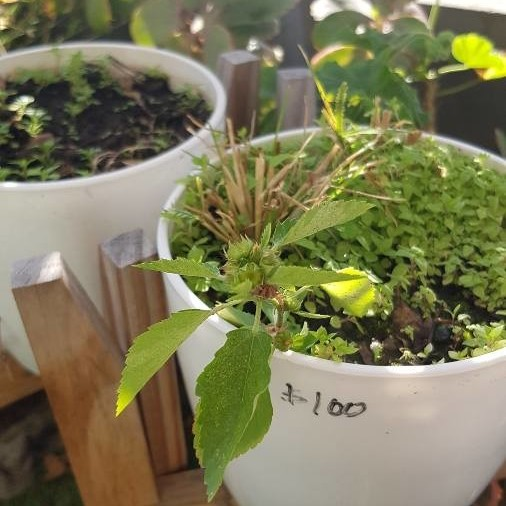obstacle: (158, 48, 492, 488)
